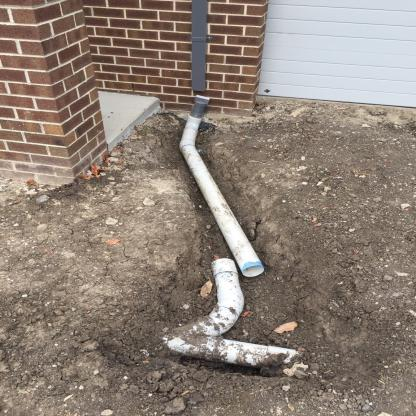PVC: (162, 256, 300, 369), (179, 94, 263, 278)
